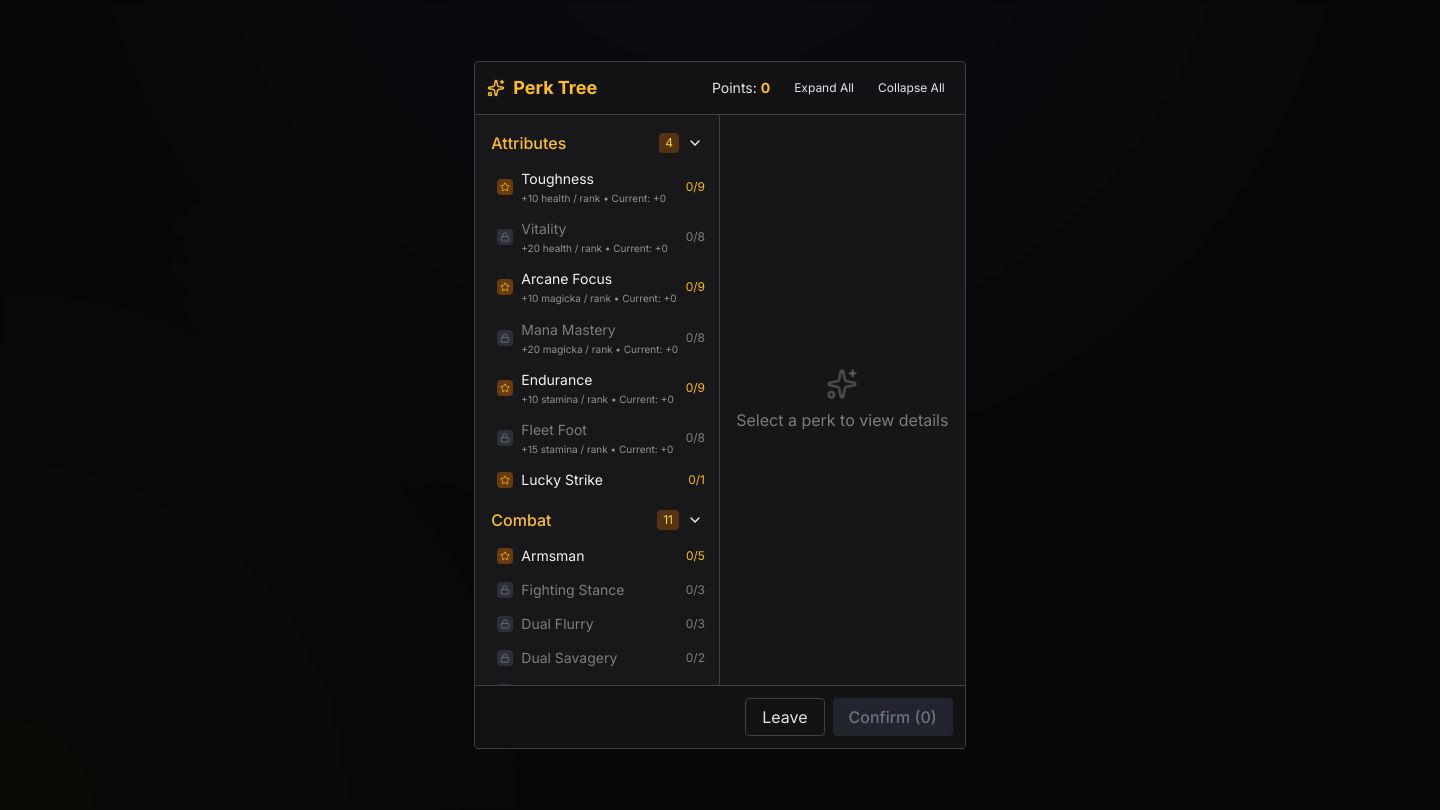
Test: PerkTreeModal expand/collapse all buttons work and default to expanded
Expected: the text "Toughness" is shown, 521,170 -> 594,187
// Collapse all and ensure 'Toughness' is not visible
Click the button "Collapse All".
click(911, 88)  # box 870,76 -> 953,100
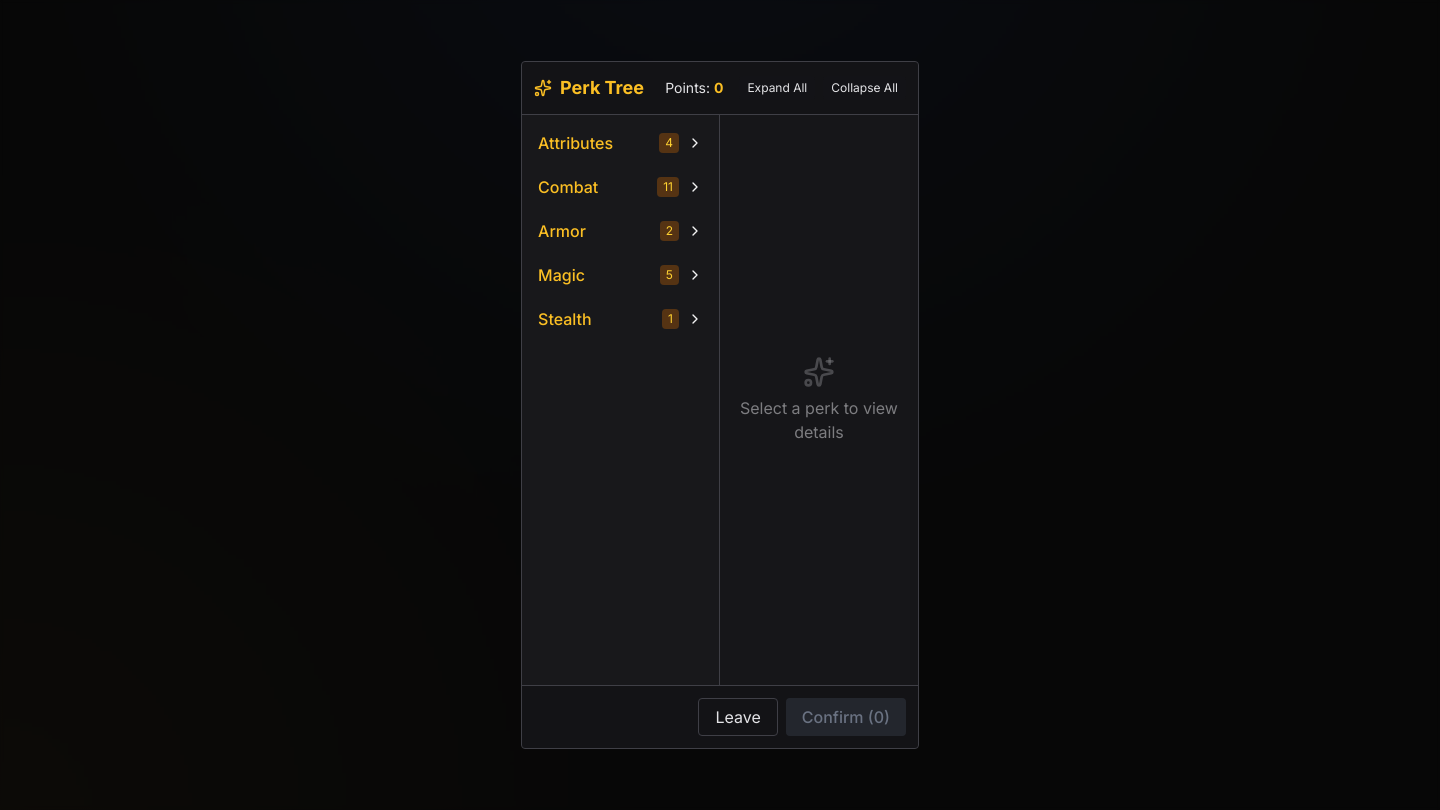
Expected: the button "Toughness" is gone
// Expand all and ensure 'Toughness' is visible again
Click the button "Expand All".
click(777, 88)  # box 739,76 -> 815,100
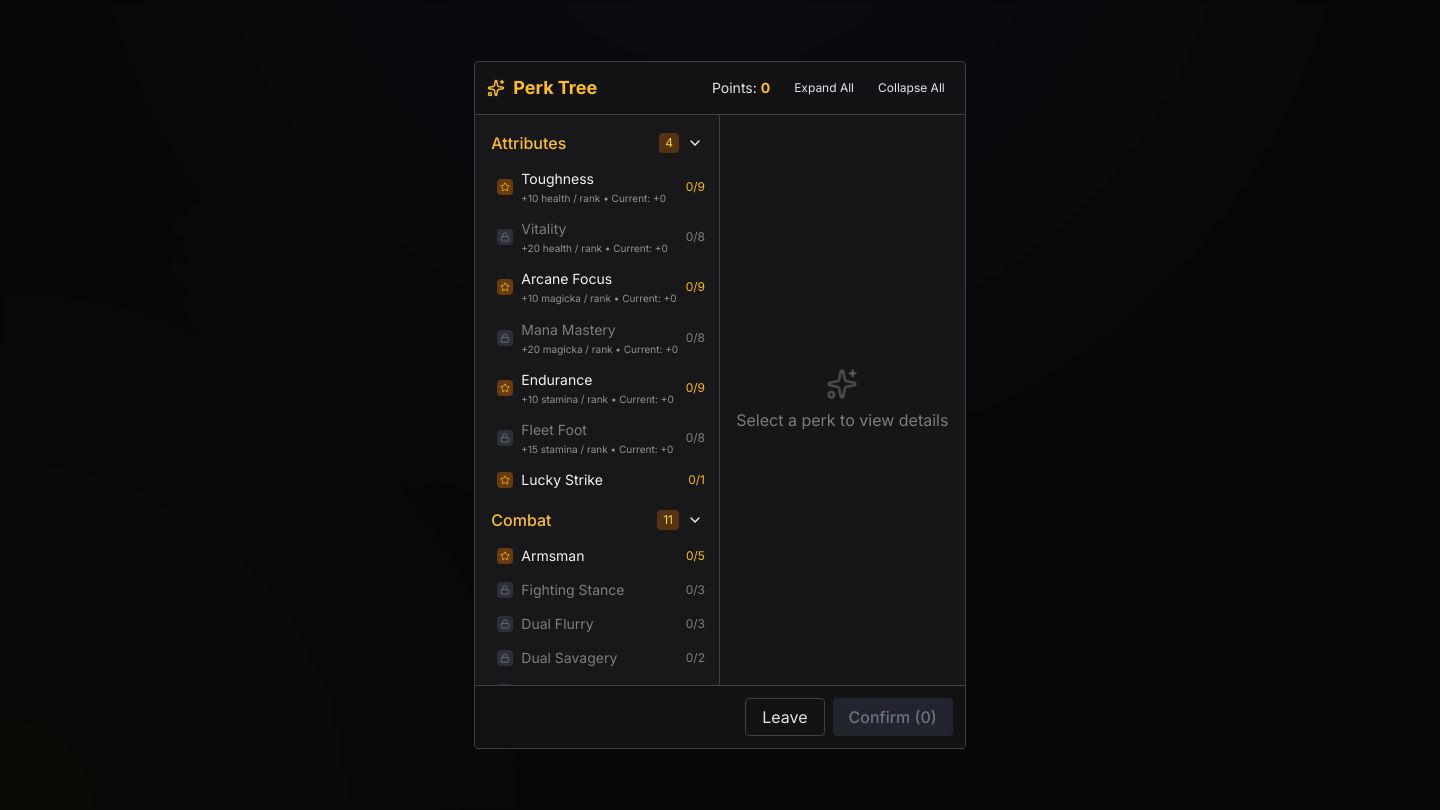
Expected: the text "Toughness" is shown, 521,170 -> 594,187
